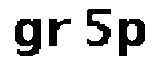5: (82, 3, 114, 52)
g: (7, 15, 44, 60)
p: (116, 13, 148, 60)
r: (47, 15, 75, 50)
